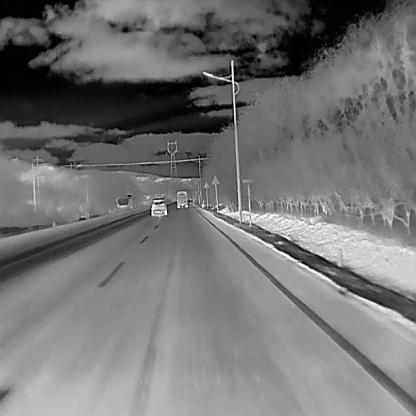bus: (115, 193, 132, 212), (176, 189, 188, 208)
car: (150, 197, 167, 216)
